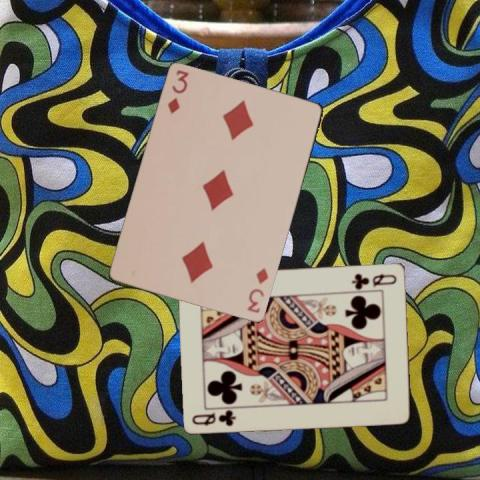3d: (244, 264, 270, 314), (165, 67, 190, 116)
Qc: (190, 407, 237, 427), (349, 270, 398, 289)
